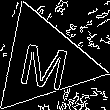M_N: (16, 32, 73, 90)
